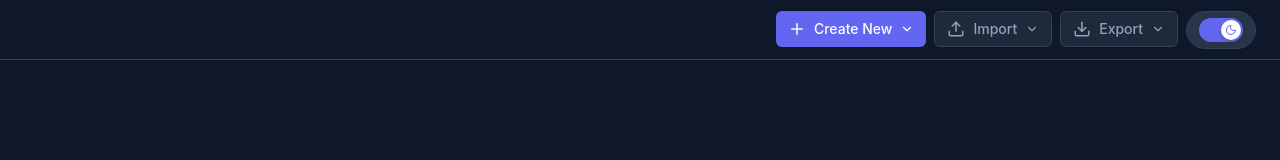
Test: HeaderBar › Create dropdown › should open Create dropdown when clicked
The image size is (1280, 160).
Step 1. Click the button "Create New" → (851, 28), box x1=776 y1=10 x2=926 y2=46
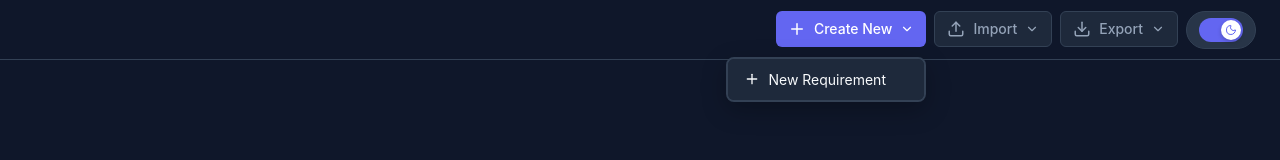
Expected: the button "New Requirement" is shown, x1=728 y1=58 x2=924 y2=100
